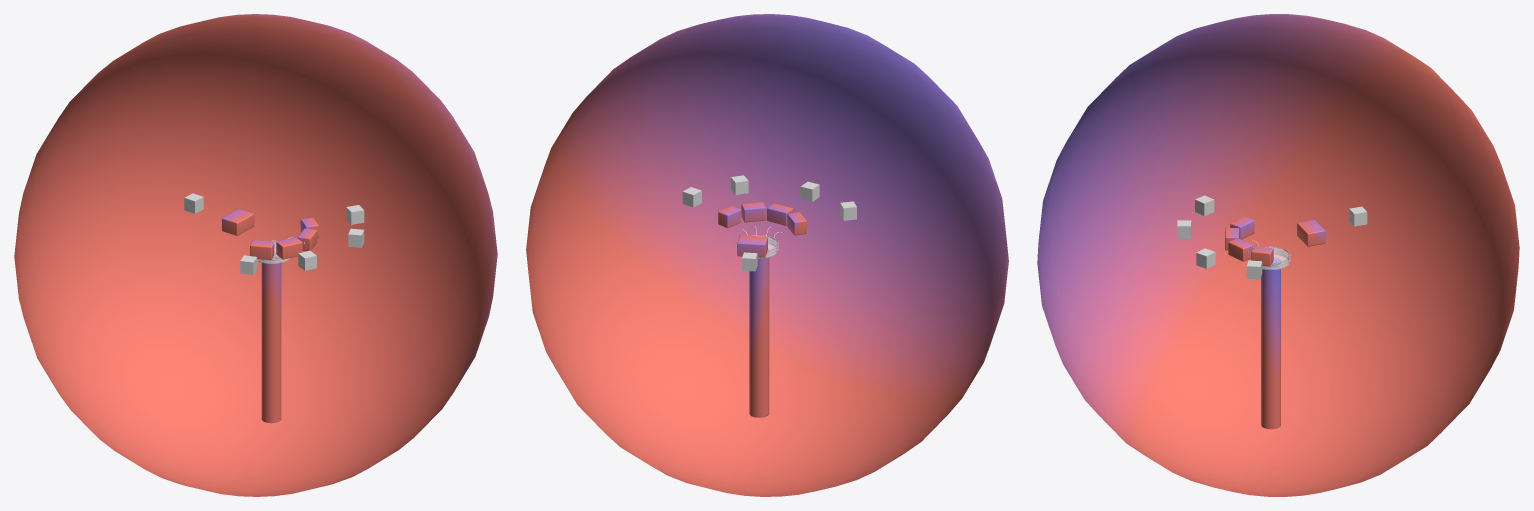
The model's file is spiral_demo.glb.
3 renders of one model, left to right at view 1: azimuth 30°, elevation 25°; view 2: azimuth 150°, elevation 25°; view 3: azimuth 270°, elevation 25°, orthographic.
Visible parts, largest first — view 1: BG Sphere, bg cylinders.001, raycast targets; view 2: BG Sphere, bg cylinders.001, raycast targets; view 3: BG Sphere, bg cylinders.001, raycast targets.
Boxes of the visible parts, <box> form: BG Sphere: <box>14,14,497,496</box>; bg cylinders.001: <box>261,251,281,423</box>; raycast targets: <box>222,209,254,235</box>; BG Sphere: <box>526,14,1008,496</box>; bg cylinders.001: <box>749,248,769,417</box>; raycast targets: <box>737,235,767,257</box>; BG Sphere: <box>1037,14,1519,496</box>; bg cylinders.001: <box>1261,257,1280,429</box>; raycast targets: <box>1297,220,1325,246</box>.
Bounding box in the file's own units: 35.74 × 35.85 × 35.74.
Materials: 11 (7 with a texture image).
